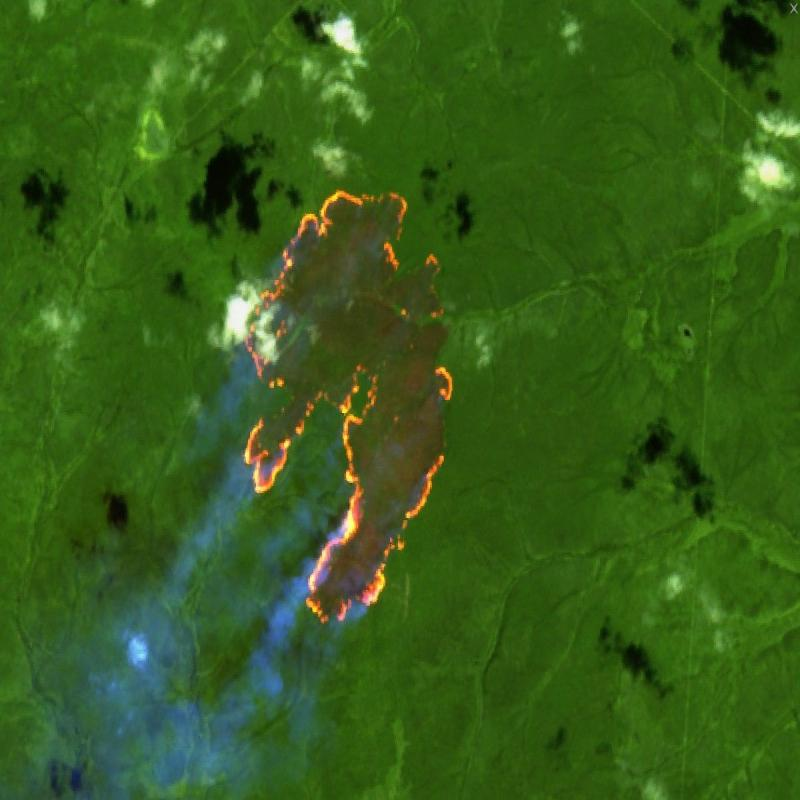fire: (234, 152, 474, 646)
